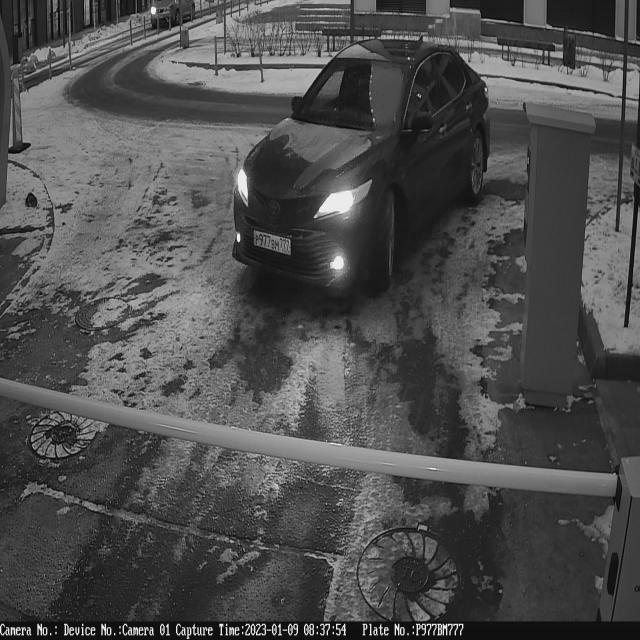car-plate-numbers: (252, 225, 295, 260)
